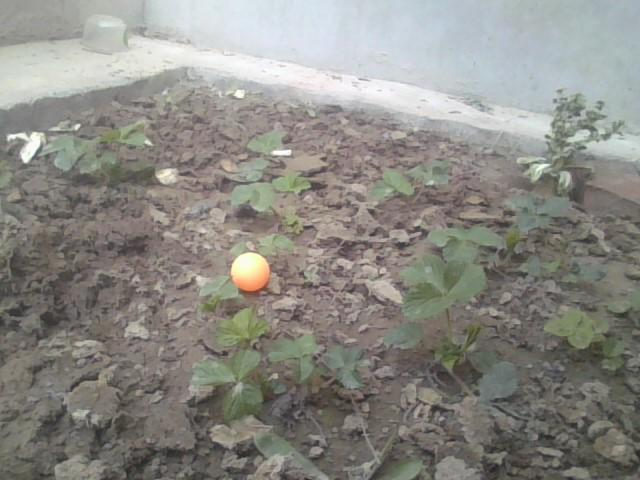ball: (232, 255, 270, 292)
